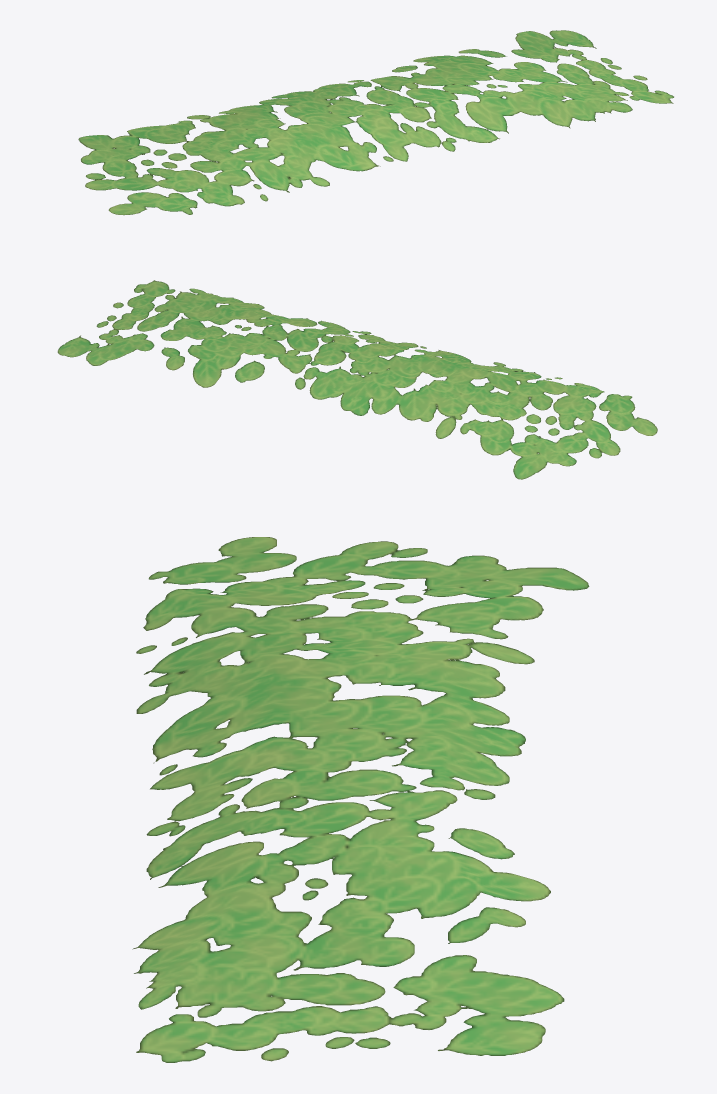
File: LeafSetE_10.fbx
3 views of the same model, one above another, from view 1: azimuth 30°, elevation 25°; view 2: azimuth 150°, elevation 25°; view 3: azimuth 270°, elevation 25° (orthographic). The views are drawn at different scales.
Visible parts, largest first — view 1: LeafSetE_10; view 2: LeafSetE_10; view 3: LeafSetE_10.
Boxes of the visible parts, box(x1,y1,x2,y2) form: LeafSetE_10: box(78, 30, 673, 215); LeafSetE_10: box(57, 280, 657, 479); LeafSetE_10: box(132, 537, 589, 1062).
Size of the model in its own units: 1.51 by 0.0619 by 0.5863.
